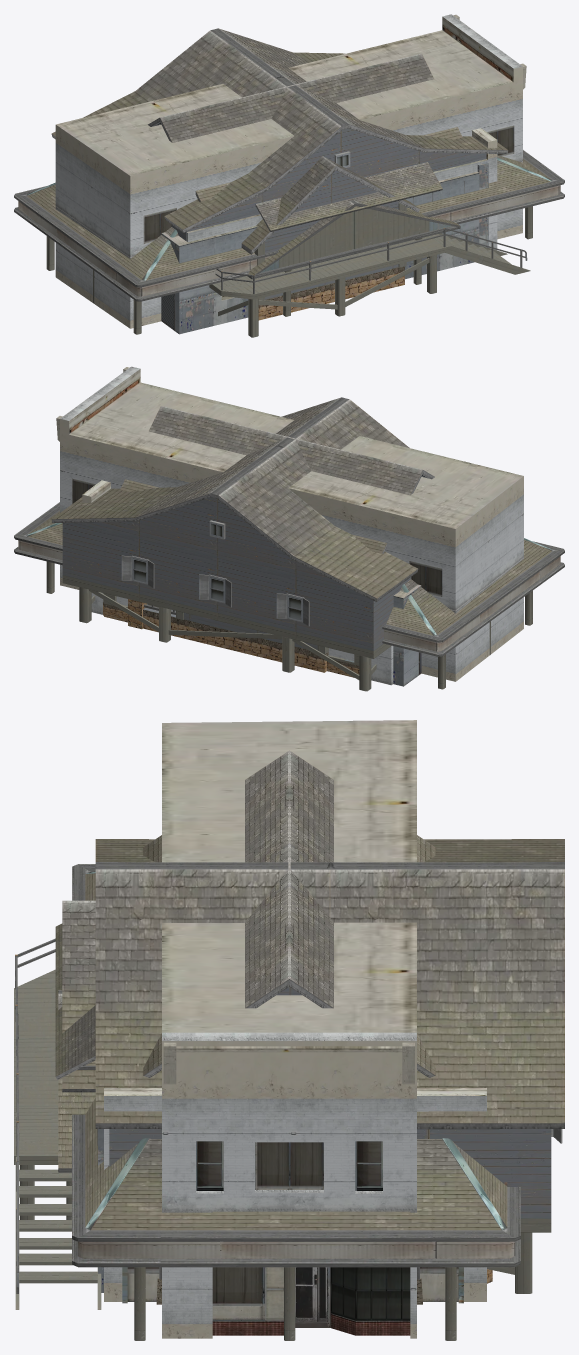
File: bld_rural.glb
3 views of the same model, one above another, from view 1: azimuth 30°, elevation 25°; view 2: azimuth 150°, elevation 25°; view 3: azimuth 270°, elevation 25° (orthographic). The views are drawn at different scales.
Visible parts, largest first — view 1: rural_08, rural_16, rural_19, rural_20, rural_17, rural_10, rural_12; view 2: rural_16, rural_08, rural_19, rural_20, rural_17, rural_12, rural_10; view 3: rural_08, rural_16, rural_19, rural_20, rural_12, rural_17.
Boxes of the visible parts, bbox=[...] form: rural_08: bbox=[55, 14, 526, 328]; rural_16: bbox=[51, 28, 530, 337]; rural_19: bbox=[14, 150, 564, 334]; rural_20: bbox=[148, 53, 462, 201]; rural_17: bbox=[241, 156, 419, 320]; rural_10: bbox=[161, 162, 488, 334]; rural_12: bbox=[186, 128, 497, 250]; rural_16: bbox=[51, 397, 418, 691]; rural_08: bbox=[56, 366, 523, 681]; rural_19: bbox=[14, 502, 564, 689]; rural_20: bbox=[120, 406, 434, 553]; rural_17: bbox=[128, 599, 328, 672]; rural_12: bbox=[82, 480, 393, 685]; rural_10: bbox=[393, 584, 421, 686]; rural_08: bbox=[162, 720, 416, 1338]; rural_16: bbox=[14, 839, 564, 1309]; rural_19: bbox=[58, 864, 520, 1340]; rural_20: bbox=[143, 750, 435, 1077]; rural_12: bbox=[104, 1088, 486, 1303]; rural_17: bbox=[62, 900, 95, 1092].
Size of the model in its own units: 27.73 by 10.47 by 17.26.
9 materials, 9 textured.
